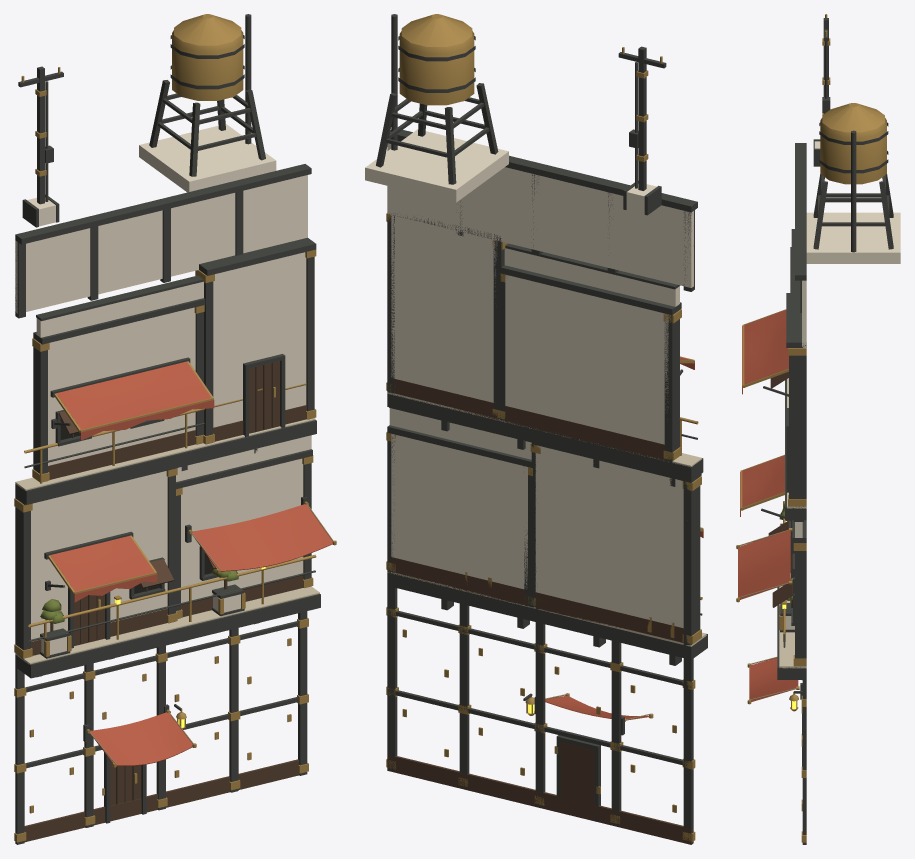
File: terrace_a.glb
3 renders of one model, left to right at view 1: azimuth 30°, elevation 25°; view 2: azimuth 150°, elevation 25°; view 3: azimuth 270°, elevation 25°, orthographic. The views are drawn at different scales.
Parts seen in each view (by area): view 1: terrace_a; view 2: terrace_a; view 3: terrace_a.
Part boxes in pixels (x1,y1,x2,y2): terrace_a: (14, 14, 336, 844); terrace_a: (365, 14, 707, 844); terrace_a: (736, 14, 900, 844).
Bounding box in the file's own units: 8.06 × 20 × 4.2.
